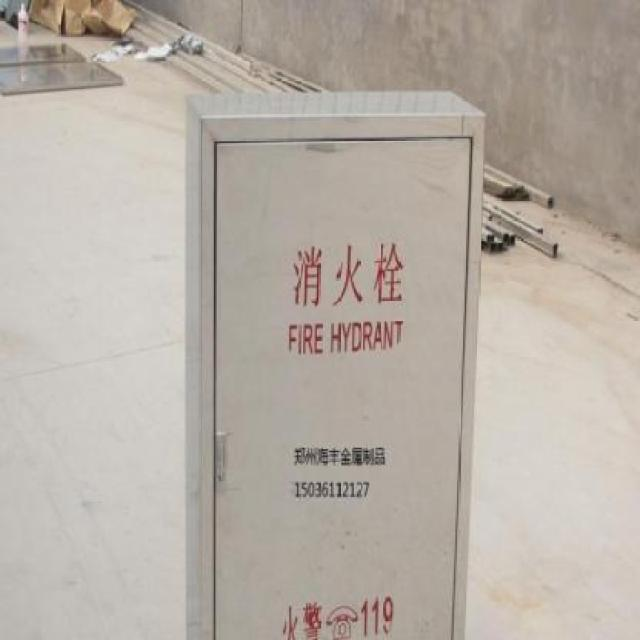firehydrant: (182, 83, 488, 640)
